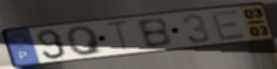3: (181, 13, 211, 44)
9: (36, 28, 68, 61)
B: (135, 16, 175, 50)
E: (209, 8, 249, 42)
Q: (64, 24, 106, 57)
T: (103, 19, 132, 53)
